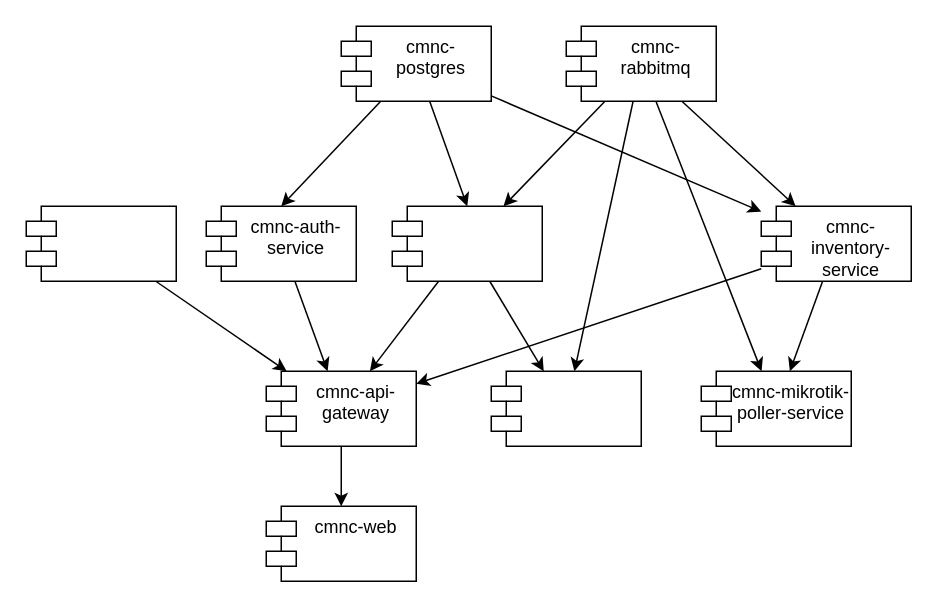
Some shapes in this 938 by 608 pixel diagram are drawn without their labels. Each missing label, with the centre of its shape:
cmnc-classroom-service: pixel 466 243
cmnc-maintenance-service: pixel 100 243
cmnc-policy-sync-service: pixel 565 408
